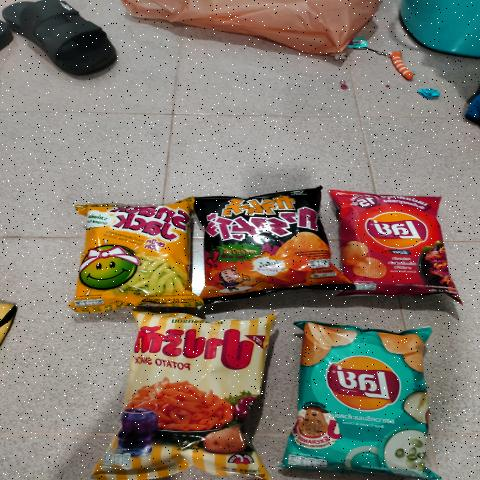karamujo: (202, 190, 316, 293)
lay_blue: (293, 329, 433, 467)
paprika: (116, 323, 262, 469)
snack_jack: (83, 204, 182, 307)
